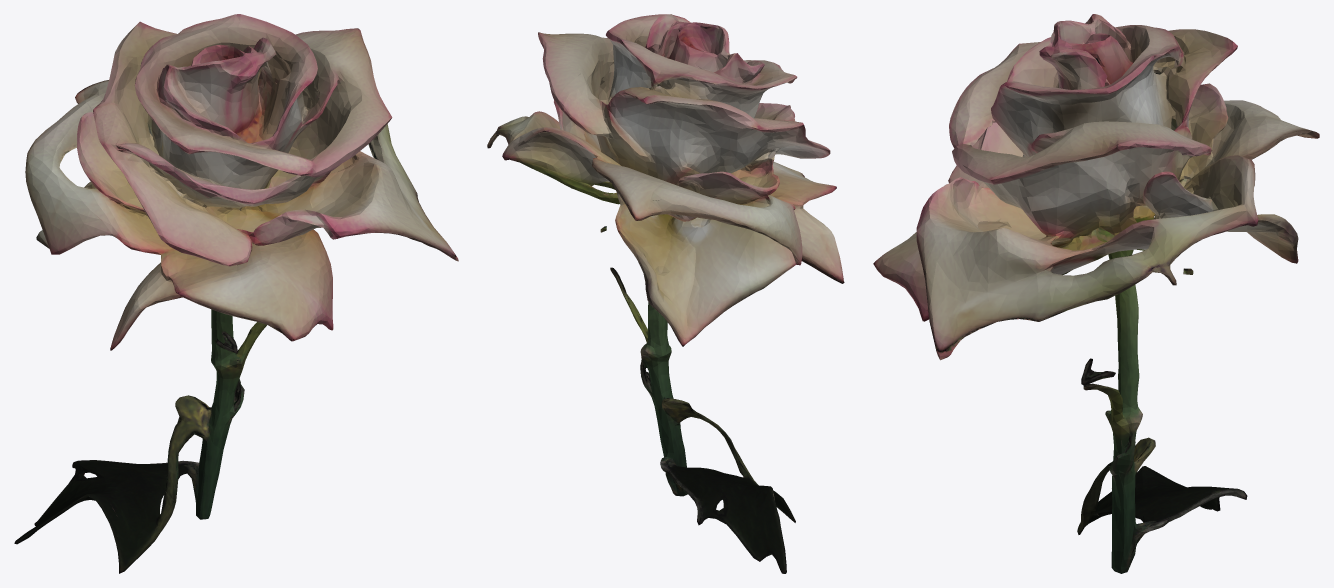
The picture shows the model from 3 angles, left to right: view 1: azimuth 30°, elevation 25°; view 2: azimuth 150°, elevation 25°; view 3: azimuth 270°, elevation 25°; orthographic projection. The views are drawn at different scales.
Visible parts, largest first — view 1: world; view 2: world; view 3: world.
Boxes of the visible parts, x1=… form: world: x1=14, y1=14, x2=458, y2=573; world: x1=487, y1=14, x2=844, y2=573; world: x1=873, y1=14, x2=1319, y2=573.
Size of the model in its own units: 0.6527 by 0.9246 by 0.6636.
Materials: 1 (1 with a texture image).
